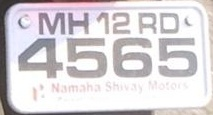character: (17, 37, 63, 79), (66, 37, 107, 77), (112, 37, 153, 77), (158, 37, 197, 77), (37, 11, 65, 36), (67, 11, 89, 36), (137, 12, 157, 35), (159, 12, 179, 35), (111, 12, 130, 35), (96, 11, 110, 36)
